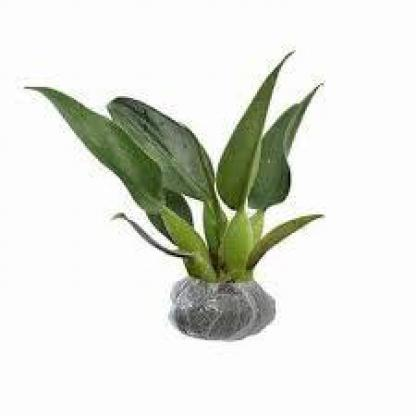Kenanga: (72, 39, 284, 317), (222, 89, 401, 326)
